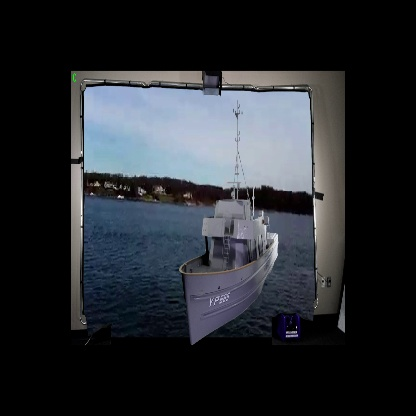YP689: (178, 102, 279, 344)
